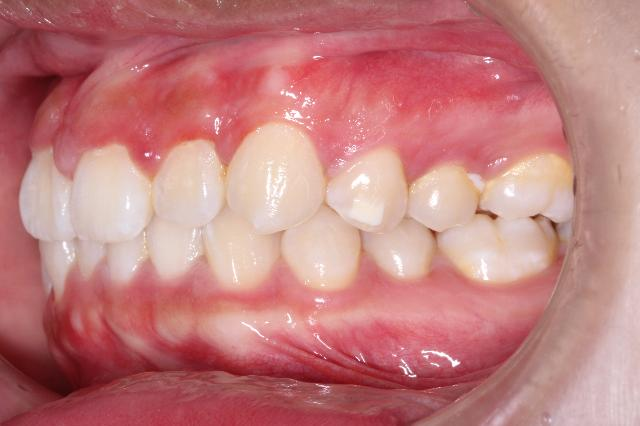canine class II 1/4: (207, 120, 366, 310)
molar class III 1/4: (433, 144, 579, 294)
